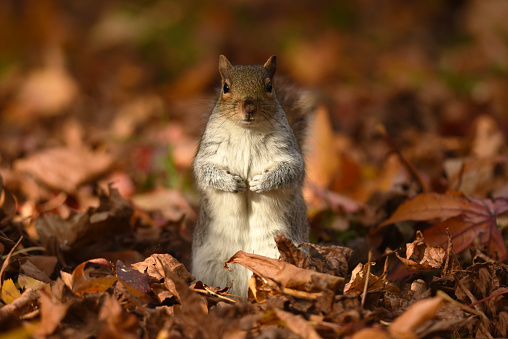squirrel: (192, 49, 311, 248)
